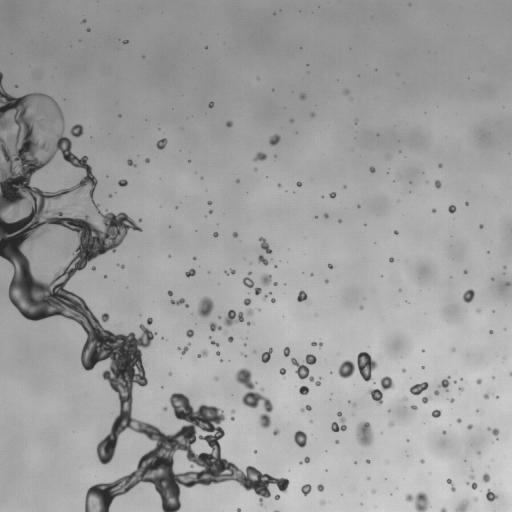droplet: (338, 352, 377, 381), (291, 354, 321, 386), (368, 376, 394, 405), (355, 421, 374, 446), (405, 492, 430, 511), (224, 309, 243, 326), (198, 297, 213, 317), (331, 411, 346, 431), (409, 382, 428, 395), (294, 430, 307, 447), (242, 272, 254, 287), (70, 124, 83, 137), (261, 348, 272, 363), (462, 289, 474, 302), (439, 376, 449, 391), (260, 273, 271, 285), (486, 489, 497, 501), (269, 134, 280, 145), (156, 138, 167, 149), (253, 152, 266, 161), (297, 290, 307, 301), (301, 484, 311, 495), (209, 322, 221, 331), (258, 255, 268, 265), (185, 268, 195, 277), (455, 503, 466, 511), (299, 386, 309, 394), (101, 313, 109, 322), (180, 345, 188, 354), (482, 473, 490, 482), (225, 268, 235, 275), (283, 346, 290, 356), (448, 205, 456, 213), (422, 395, 430, 403), (127, 159, 136, 166), (118, 179, 127, 186), (198, 350, 207, 357), (432, 410, 441, 417), (186, 329, 193, 337), (244, 298, 251, 305), (246, 309, 253, 316), (317, 484, 324, 491), (435, 180, 441, 188), (255, 287, 261, 295), (329, 192, 336, 198), (279, 368, 285, 375), (471, 482, 477, 489), (147, 317, 152, 325), (369, 166, 375, 172), (273, 429, 279, 435), (300, 93, 305, 99), (226, 121, 232, 126), (228, 336, 233, 342), (476, 378, 481, 384), (484, 393, 489, 399), (303, 457, 309, 462), (440, 507, 447, 511), (208, 102, 213, 107), (213, 232, 218, 237), (389, 257, 394, 262), (167, 290, 172, 295), (456, 418, 461, 423), (467, 424, 472, 429), (411, 405, 417, 409), (343, 90, 348, 94), (297, 181, 301, 186), (324, 213, 328, 218), (233, 232, 237, 237), (434, 390, 438, 395), (163, 406, 167, 411), (275, 494, 279, 499), (310, 112, 314, 116), (145, 158, 149, 162), (438, 163, 442, 167), (479, 224, 483, 228), (328, 264, 332, 268), (91, 266, 95, 270), (263, 295, 267, 299), (271, 298, 275, 302), (389, 422, 393, 426), (442, 430, 446, 434), (366, 459, 370, 463), (420, 459, 424, 463), (470, 475, 474, 479), (320, 500, 324, 504), (506, 282, 511, 285), (123, 40, 127, 43), (432, 208, 435, 212), (394, 230, 397, 234), (120, 265, 124, 268), (459, 387, 463, 390), (450, 399, 454, 402), (509, 371, 511, 376), (82, 19, 85, 22), (290, 119, 293, 122), (236, 179, 239, 182), (208, 201, 211, 204), (465, 202, 468, 205), (209, 210, 212, 213), (503, 265, 506, 268), (325, 279, 328, 282), (360, 306, 363, 309), (489, 330, 492, 333), (216, 351, 219, 354), (402, 369, 405, 372), (214, 377, 217, 380), (231, 410, 234, 413), (231, 417, 234, 420), (477, 451, 480, 454), (372, 490, 375, 493), (237, 508, 240, 511), (87, 28, 89, 31), (278, 183, 280, 186), (338, 220, 341, 222), (193, 257, 196, 259), (464, 271, 467, 273), (274, 282, 276, 285), (477, 309, 479, 312), (247, 322, 250, 324), (452, 348, 455, 350), (422, 366, 424, 369), (336, 440, 338, 443), (254, 450, 256, 453), (15, 85, 17, 87), (109, 195, 111, 197), (139, 219, 141, 221), (274, 265, 276, 267), (104, 275, 106, 277), (491, 278, 493, 280), (218, 316, 220, 318), (177, 347, 179, 349), (422, 349, 424, 351), (220, 359, 222, 361), (454, 380, 456, 382), (261, 388, 263, 390), (403, 398, 405, 400), (407, 439, 409, 441), (475, 498, 477, 500)
ligament: (0, 72, 286, 511), (235, 368, 273, 428), (259, 237, 271, 253), (170, 298, 188, 307), (487, 427, 499, 437), (446, 478, 455, 491), (210, 338, 219, 346), (300, 405, 311, 411), (311, 342, 322, 347), (34, 111, 45, 115), (275, 510, 278, 511)
